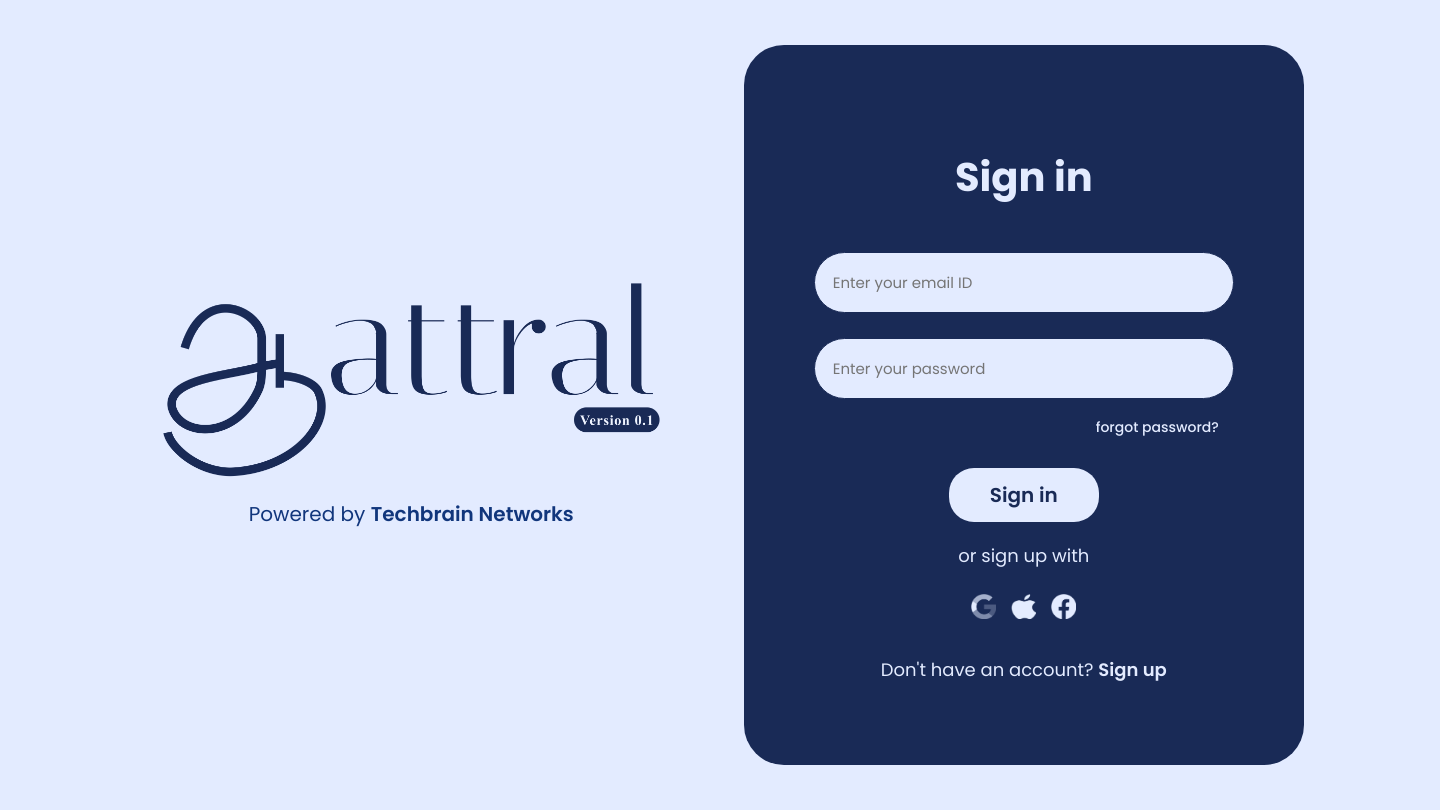
Test: Signinpage Component Tests › shows error if email is empty
Click the button "Sign in" at (1024, 495), box x1=949 y1=468 x2=1099 y2=522
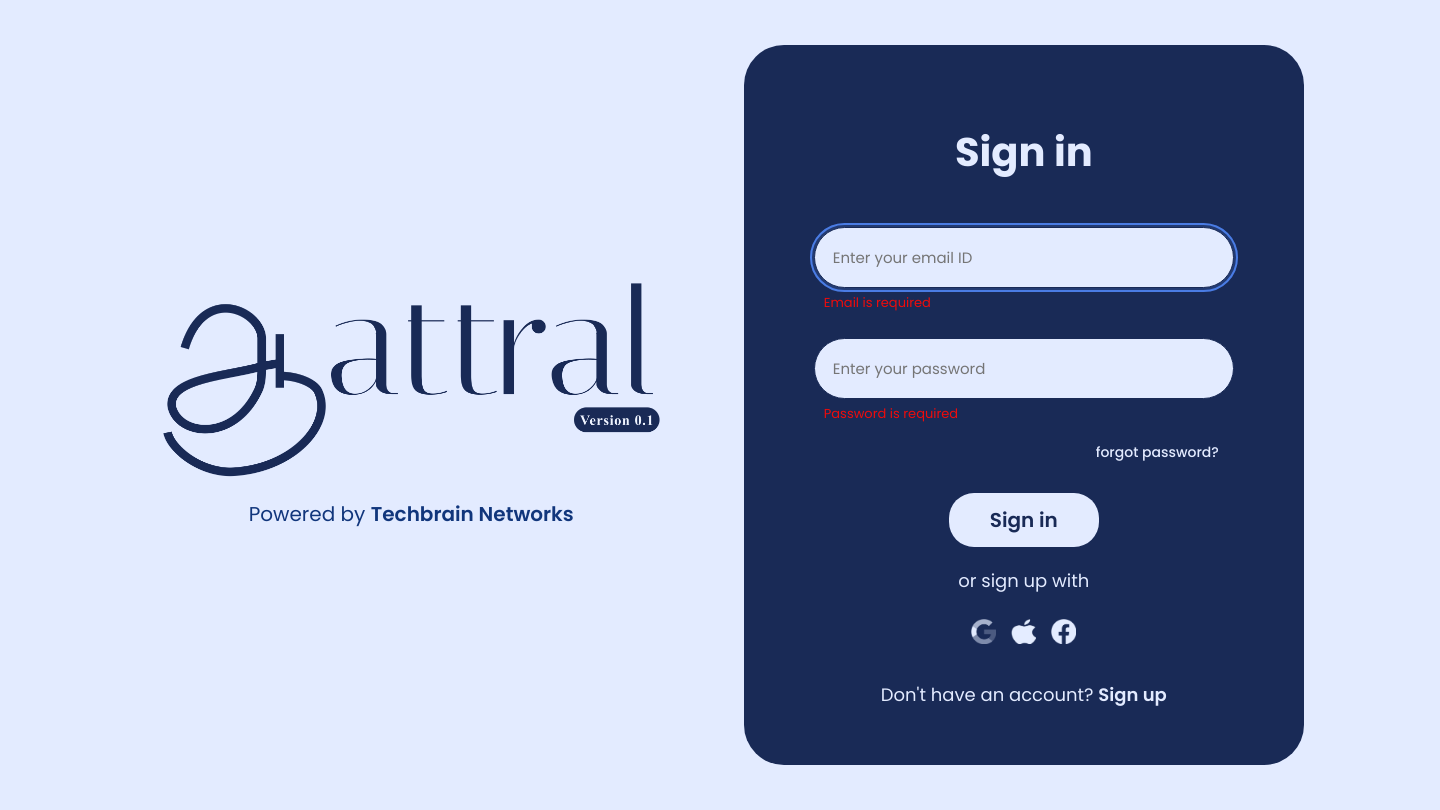
Expected: the text "Email is required" is shown, x1=824 y1=293 x2=931 y2=312
